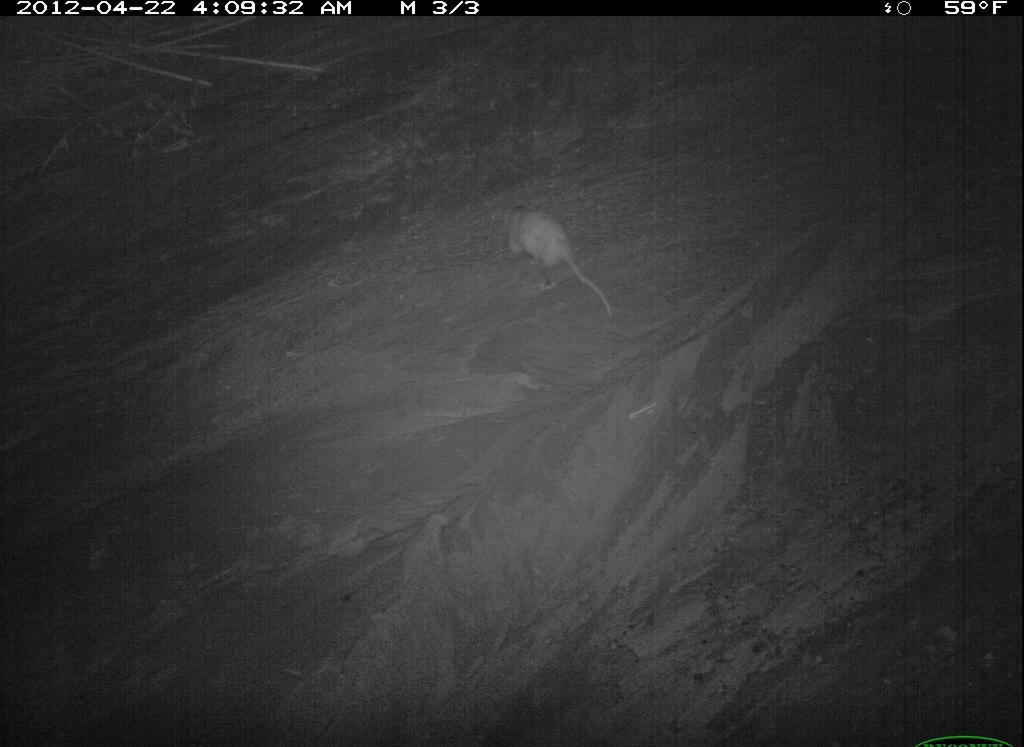opossum: (999, 400, 1024, 628)
